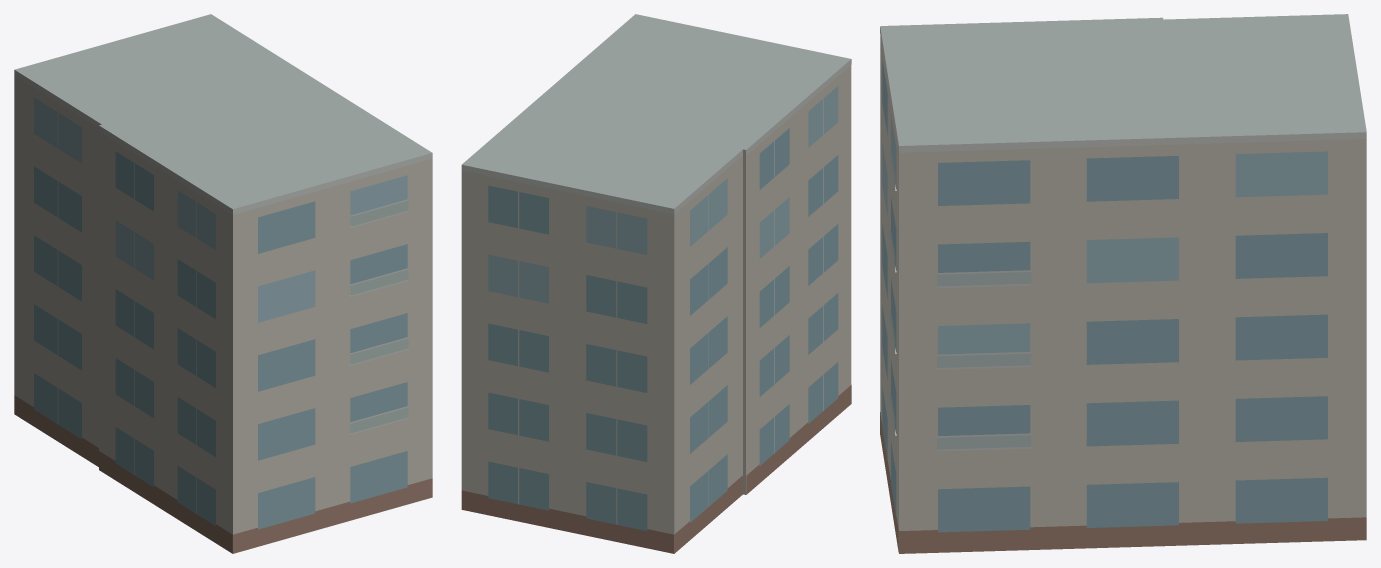
Rendered from survey-upis-32580149.glb.
3 views of the same model, side by side, from view 1: azimuth 30°, elevation 25°; view 2: azimuth 150°, elevation 25°; view 3: azimuth 270°, elevation 25° (orthographic). The views are drawn at different scales.
Visible parts, largest first — view 1: survey-upis-32580149.tmp; view 2: survey-upis-32580149.tmp; view 3: survey-upis-32580149.tmp.
Boxes of the visible parts, x1,y1,x2,y2 form: survey-upis-32580149.tmp: [14, 14, 432, 553]; survey-upis-32580149.tmp: [461, 14, 851, 553]; survey-upis-32580149.tmp: [880, 14, 1366, 553].
Size of the model in its own units: 10.28 by 14.8 by 16.01.
